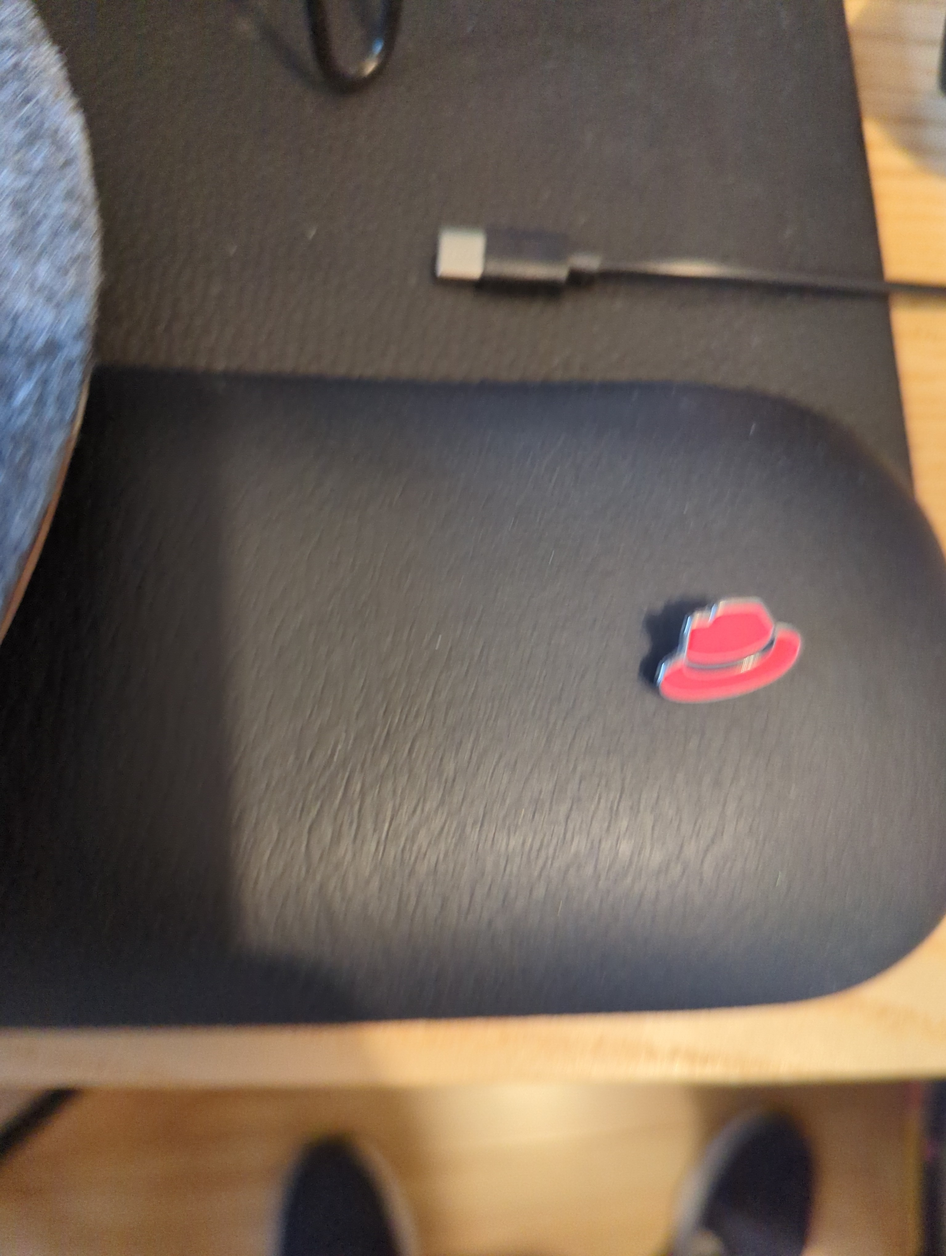Red-Hat: (591, 565, 916, 751)
